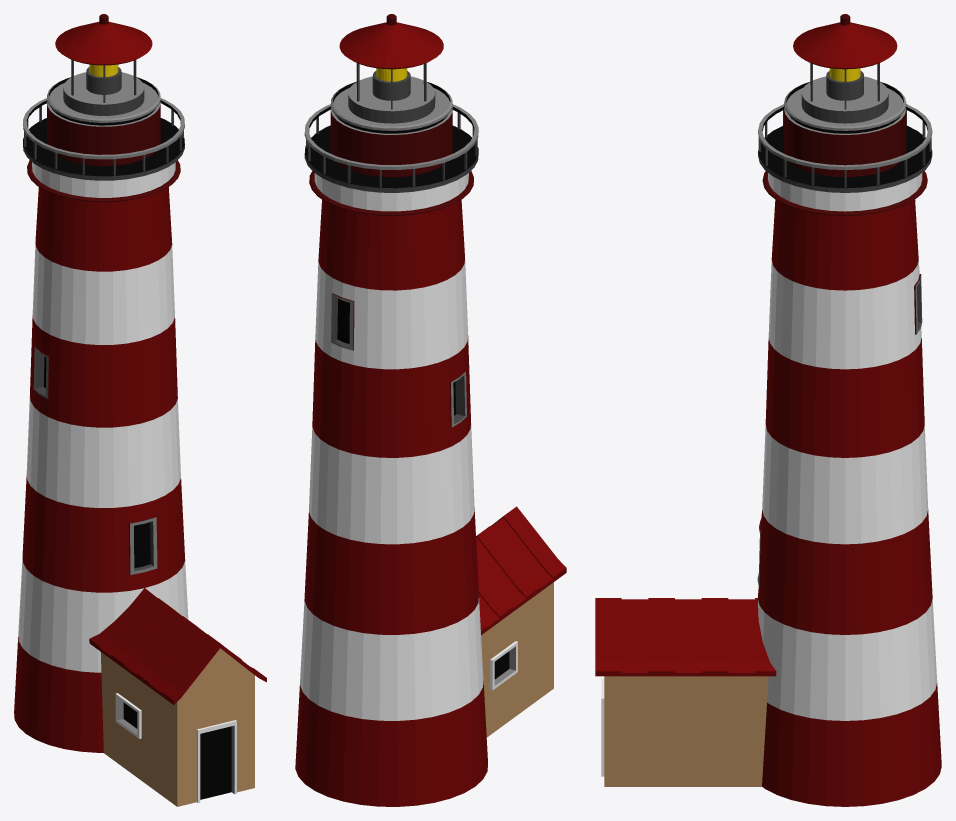
The model's file is lighthouse.glb.
The picture shows the model from 3 angles, left to right: view 1: azimuth 30°, elevation 25°; view 2: azimuth 150°, elevation 25°; view 3: azimuth 270°, elevation 25°; orthographic projection. The views are drawn at different scales.
Visible parts, largest first — view 1: Lighthouse; view 2: Lighthouse; view 3: Lighthouse.
Boxes of the visible parts, x1,y1,x2,y2 form: Lighthouse: [14, 14, 266, 806]; Lighthouse: [295, 14, 566, 806]; Lighthouse: [595, 14, 941, 806].
Bounding box in the file's own units: 5.3 × 22.75 × 9.52.
1 material, 1 textured.
